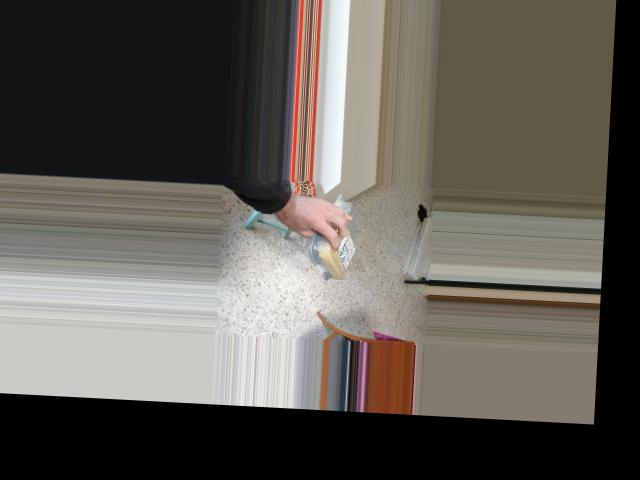cheese: (313, 217, 359, 283)
